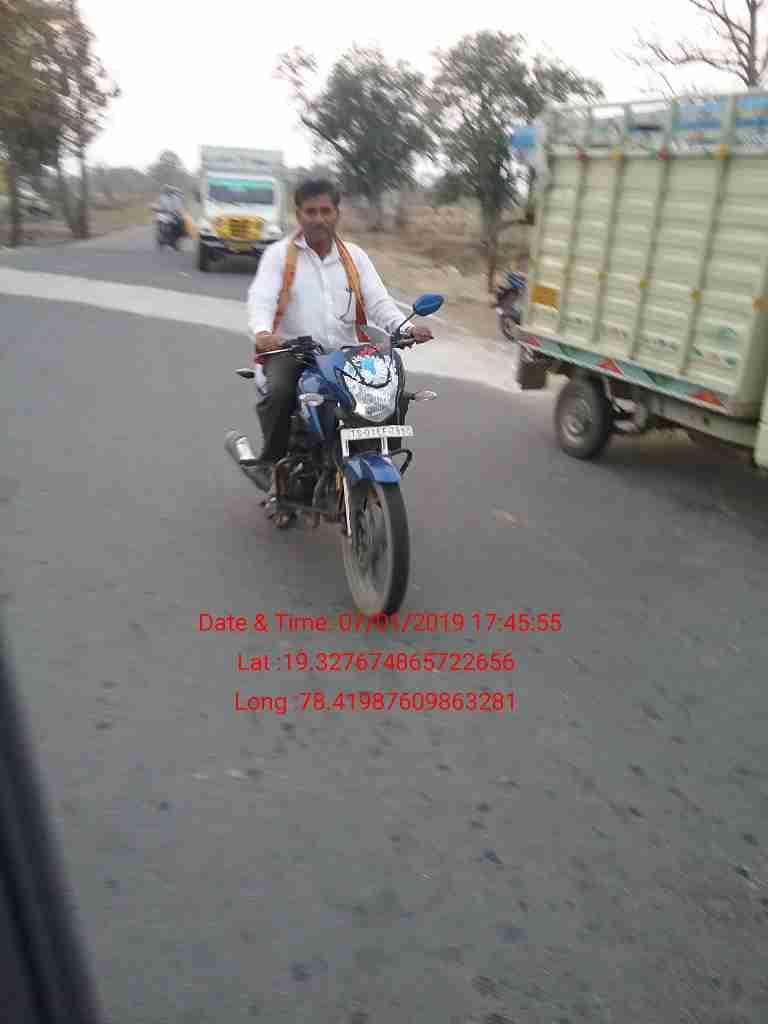plate: (336, 421, 427, 442)
